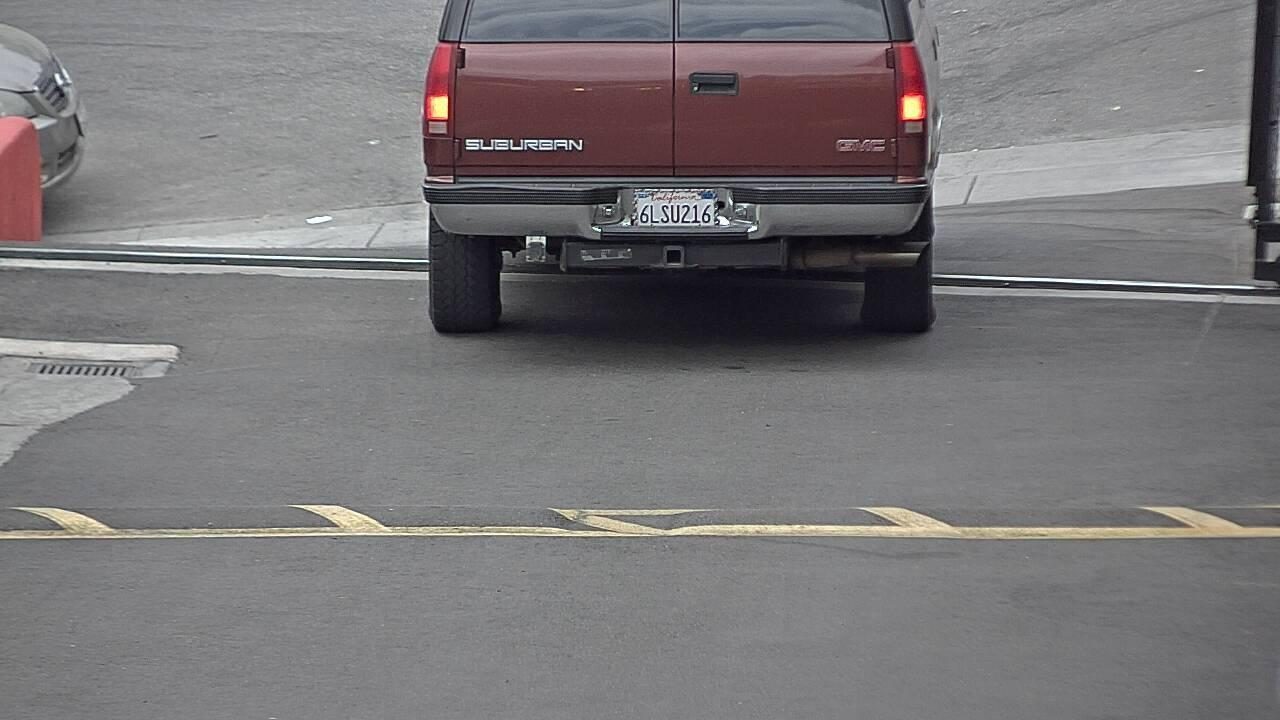placa de veiculo: (614, 185, 730, 234)
